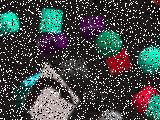Right: (22, 62, 80, 120)
